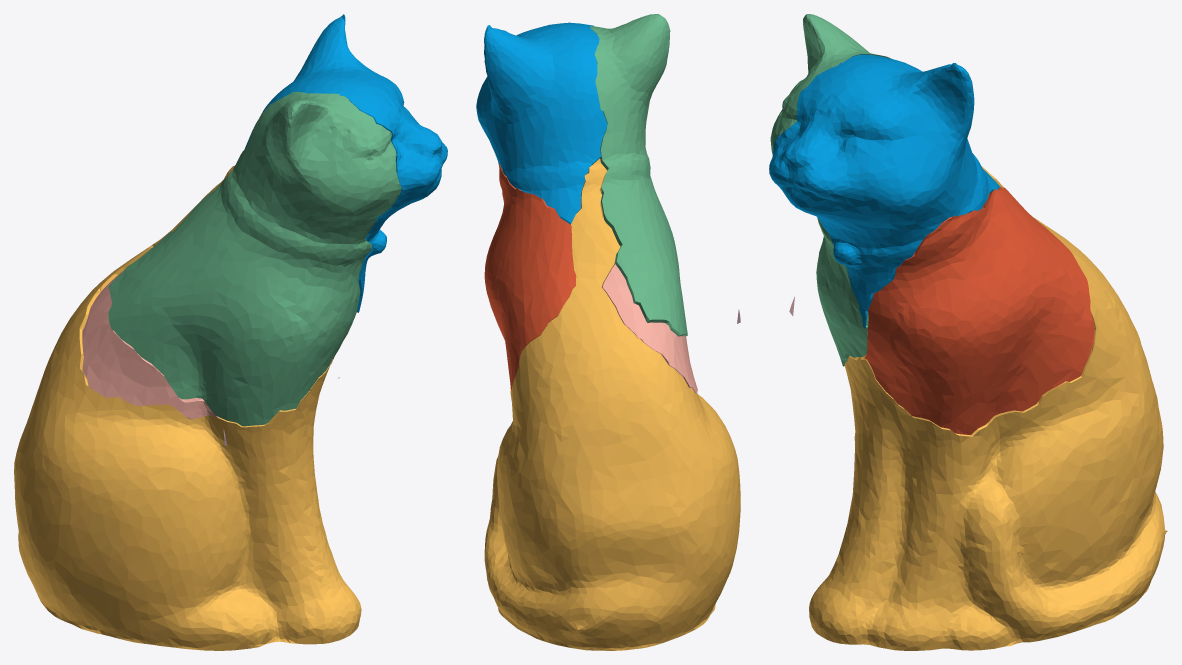
The picture shows the model from 3 angles, left to right: view 1: azimuth 30°, elevation 25°; view 2: azimuth 150°, elevation 25°; view 3: azimuth 270°, elevation 25°; orthographic projection. The views are drawn at different scales.
Visible parts, largest first — view 1: Object_piece_7, Object_piece_7.002, Object_piece_7.003, Object_piece_7.004; view 2: Object_piece_7, Object_piece_7.003, Object_piece_7.002, Object_piece_7.001, Object_piece_7.004; view 3: Object_piece_7, Object_piece_7.001, Object_piece_7.003, Object_piece_7.002.
Boxes of the visible parts, left/top/right/bottom form: Object_piece_7: left=14, top=166, right=361, bottom=650; Object_piece_7.002: left=108, top=92, right=401, bottom=426; Object_piece_7.003: left=245, top=14, right=447, bottom=312; Object_piece_7.004: left=82, top=269, right=218, bottom=419; Object_piece_7: left=484, top=158, right=740, bottom=650; Object_piece_7.003: left=476, top=22, right=607, bottom=224; Object_piece_7.002: left=589, top=14, right=687, bottom=336; Object_piece_7.001: left=484, top=164, right=576, bottom=390; Object_piece_7.004: left=602, top=264, right=697, bottom=393; Object_piece_7: left=809, top=166, right=1167, bottom=650; Object_piece_7.001: left=864, top=187, right=1094, bottom=435; Object_piece_7.003: left=769, top=54, right=1000, bottom=328; Object_piece_7.002: left=770, top=14, right=891, bottom=366.
Size of the model in its own units: 0.6059 by 1 by 0.6026.
